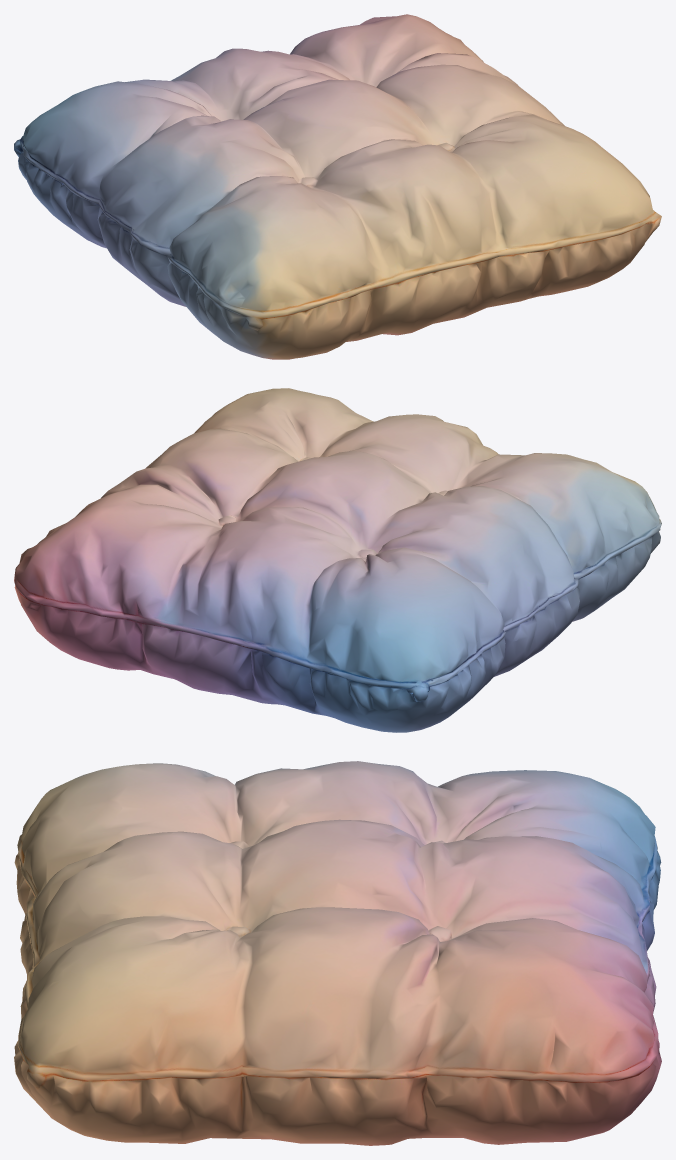
Rendered from cushion_h3.glb.
The picture shows the model from 3 angles, top to bottom: view 1: azimuth 30°, elevation 25°; view 2: azimuth 150°, elevation 25°; view 3: azimuth 270°, elevation 25°; orthographic projection. The views are drawn at different scales.
Parts seen in each view (by area): view 1: tripo_node_d117b7a2-44da-4df3-9adc-a19453a734e6; view 2: tripo_node_d117b7a2-44da-4df3-9adc-a19453a734e6; view 3: tripo_node_d117b7a2-44da-4df3-9adc-a19453a734e6.
Part boxes in pixels (x1,y1,x2,y2): tripo_node_d117b7a2-44da-4df3-9adc-a19453a734e6: (14, 14, 661, 359); tripo_node_d117b7a2-44da-4df3-9adc-a19453a734e6: (14, 388, 661, 732); tripo_node_d117b7a2-44da-4df3-9adc-a19453a734e6: (14, 761, 661, 1145).
Bounding box in the file's own units: 1 × 0.3752 × 0.9953.
1 material, 1 textured.
